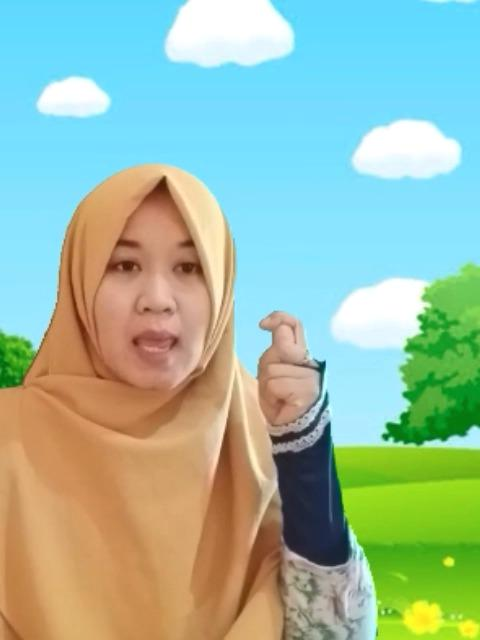T: (254, 308, 322, 436)
